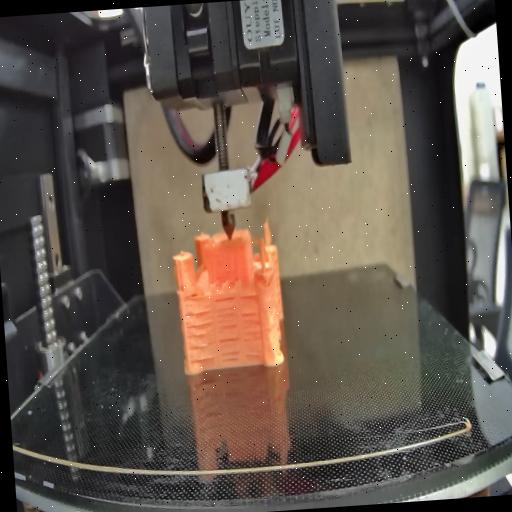cracks: (182, 308, 219, 364), (215, 294, 242, 366), (240, 308, 265, 356), (188, 286, 204, 302), (238, 290, 260, 300)
